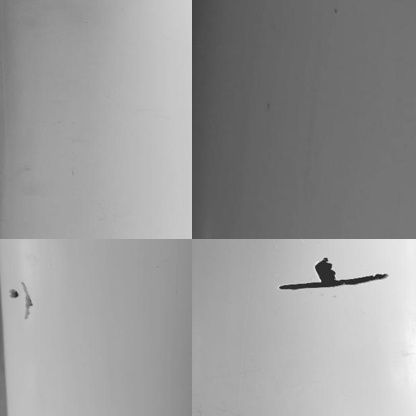fengxi: (276, 276, 391, 290)
kongdong: (10, 276, 33, 317), (314, 257, 335, 279)
